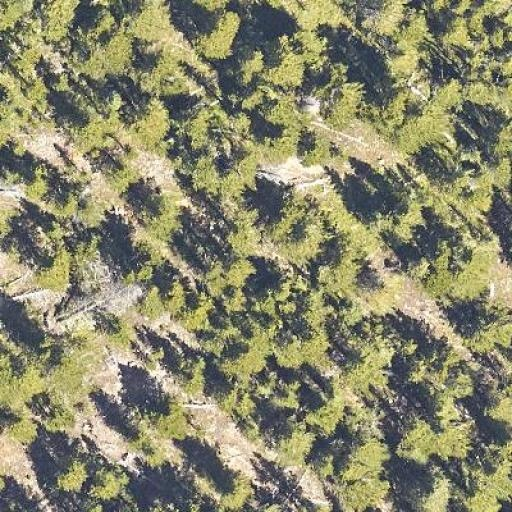tree-top: (421, 228, 499, 304), (393, 403, 483, 466), (267, 190, 335, 262), (77, 10, 139, 74), (332, 430, 394, 492), (436, 0, 507, 54), (460, 439, 512, 512), (410, 166, 481, 219), (387, 92, 454, 148), (132, 394, 194, 451), (254, 34, 318, 89), (134, 181, 188, 246), (0, 340, 54, 405), (119, 92, 178, 150), (190, 4, 247, 63), (218, 376, 267, 436), (316, 240, 370, 294), (456, 58, 512, 110), (342, 334, 390, 392), (58, 181, 115, 229), (202, 263, 251, 318), (0, 79, 53, 129), (404, 464, 459, 512), (122, 0, 178, 47), (16, 16, 66, 68), (82, 457, 133, 507), (270, 418, 322, 466), (57, 328, 103, 382), (270, 326, 325, 371), (218, 211, 268, 260), (282, 0, 360, 31), (213, 325, 262, 374), (322, 74, 365, 128), (2, 27, 48, 77), (136, 43, 186, 89), (170, 350, 214, 397), (258, 88, 306, 131), (44, 450, 90, 494), (262, 125, 308, 169), (358, 0, 407, 41), (33, 0, 78, 44), (64, 110, 108, 155), (256, 281, 299, 327), (210, 470, 257, 512), (144, 282, 186, 326), (295, 130, 341, 170), (184, 152, 225, 195), (373, 207, 419, 244), (480, 375, 512, 428), (475, 316, 512, 361), (338, 479, 388, 512), (4, 414, 42, 456), (376, 43, 418, 81), (37, 246, 72, 290), (398, 340, 434, 380), (181, 110, 217, 149), (228, 156, 264, 192), (22, 165, 54, 200), (0, 0, 27, 28), (185, 1, 234, 14)
